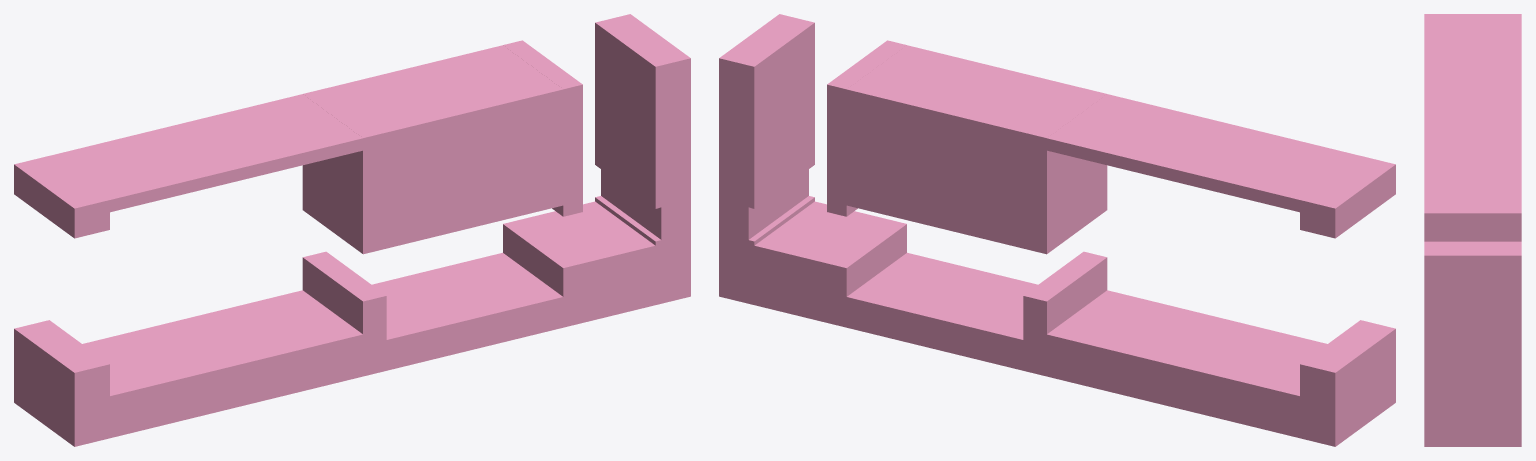
File: blueprint.glb
3 renders of one model, left to right at view 1: azimuth 30°, elevation 25°; view 2: azimuth 150°, elevation 25°; view 3: azimuth 270°, elevation 25°, orthographic. The views are drawn at different scales.
Parts seen in each view (by area): view 1: obj_0; view 2: obj_0; view 3: obj_0.
Part boxes in pixels (x1,y1,x2,y2): obj_0: [14, 14, 690, 446]; obj_0: [719, 14, 1395, 446]; obj_0: [1424, 14, 1521, 446].
Size of the model in its own units: 589 by 218 by 100.
